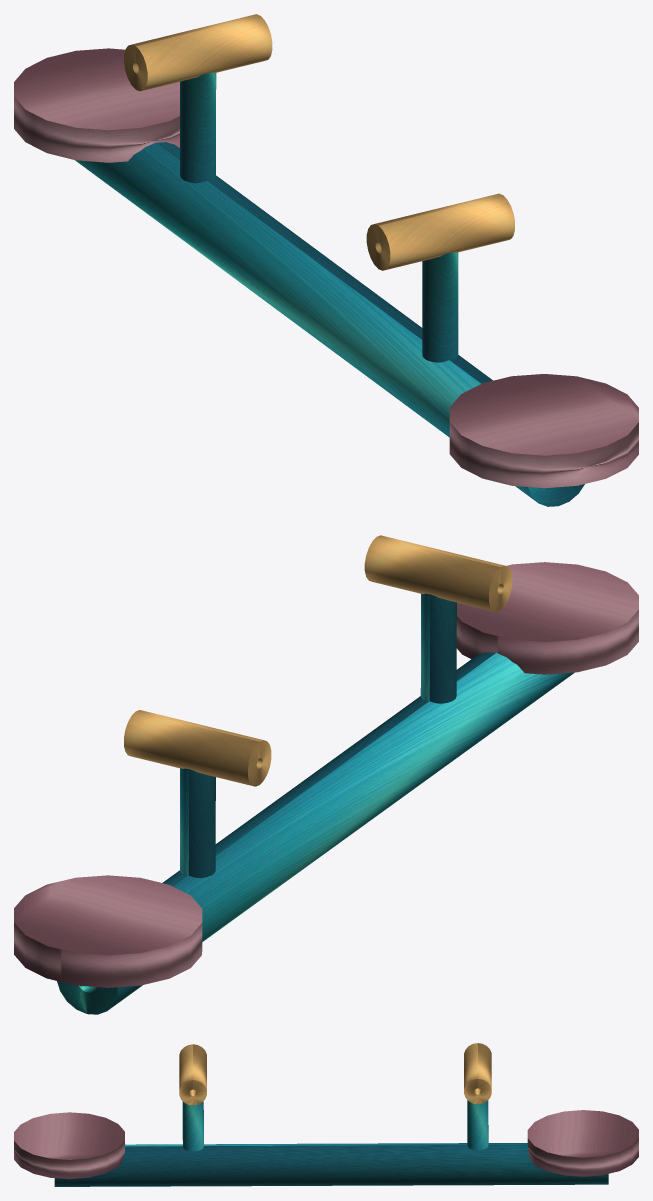
Rendered from subeybaja_02.obj.
3 renders of one model, top to bottom at view 1: azimuth 30°, elevation 25°; view 2: azimuth 150°, elevation 25°; view 3: azimuth 270°, elevation 25°, orthographic. The views are drawn at different scales.
Parts seen in each view (by area): view 1: asiento04; view 2: asiento04; view 3: asiento04.
Boxes of the visible parts, x1,y1,x2,y2 form: asiento04: (14, 14, 638, 506); asiento04: (14, 535, 638, 1014); asiento04: (14, 1043, 638, 1186).
Bounding box in the file's own units: 16.16 × 19.43 × 88.64.
3 materials, 3 textured.
